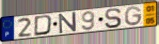2: (17, 17, 34, 38)
9: (81, 10, 97, 31)
D: (33, 14, 54, 37)
G: (124, 5, 143, 27)
N: (58, 11, 78, 35)
S: (104, 8, 123, 30)
